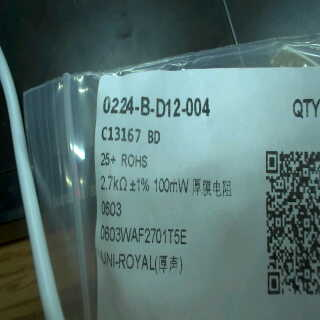2.7kR: (97, 172, 127, 197)
